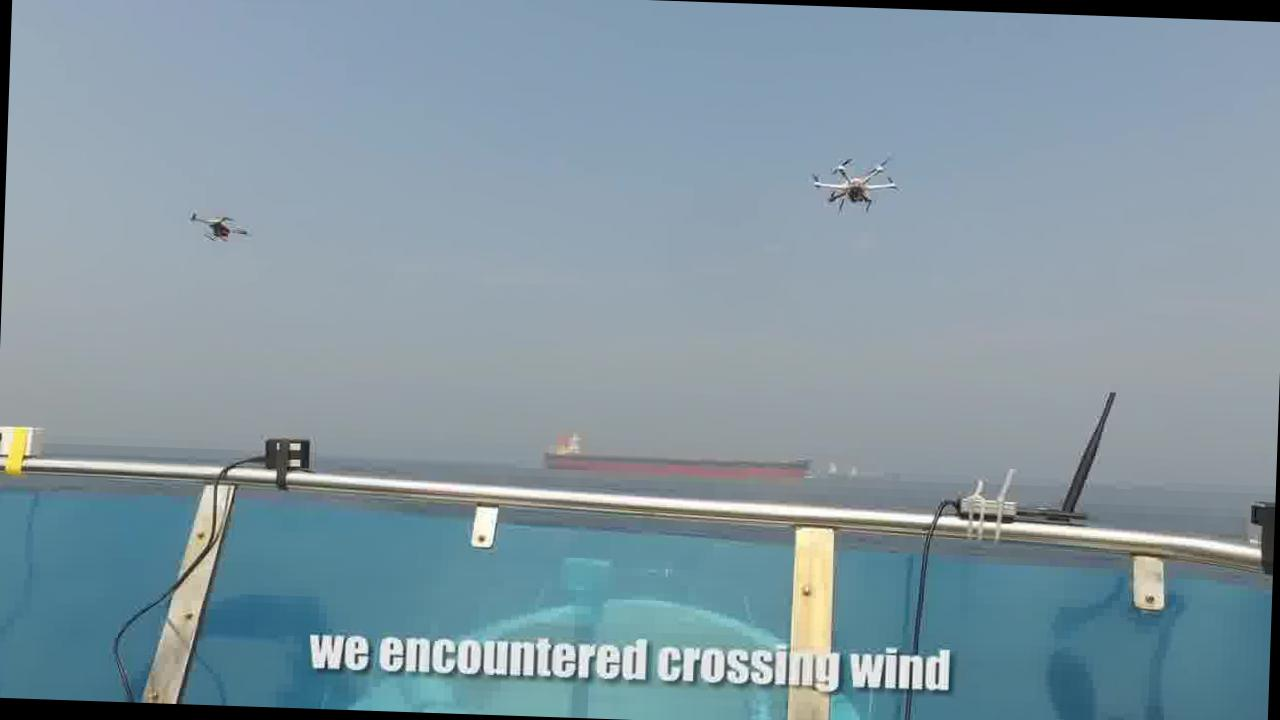drone: (808, 149, 894, 214), (183, 209, 252, 245)
